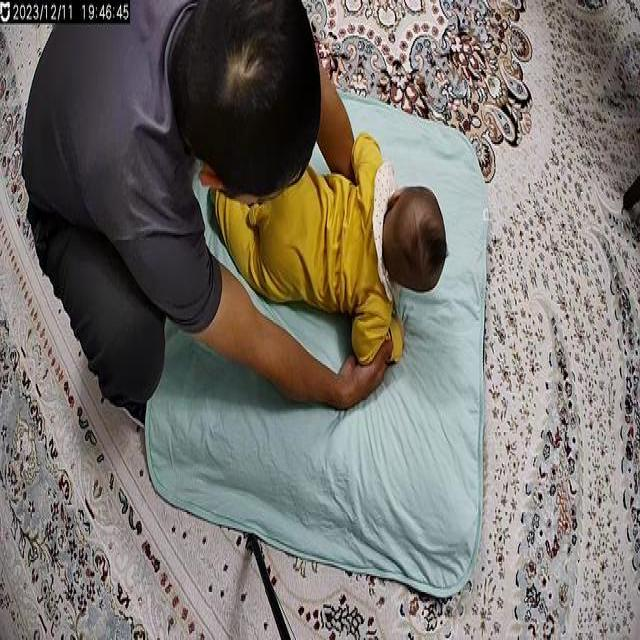baby: (208, 132, 449, 366)
